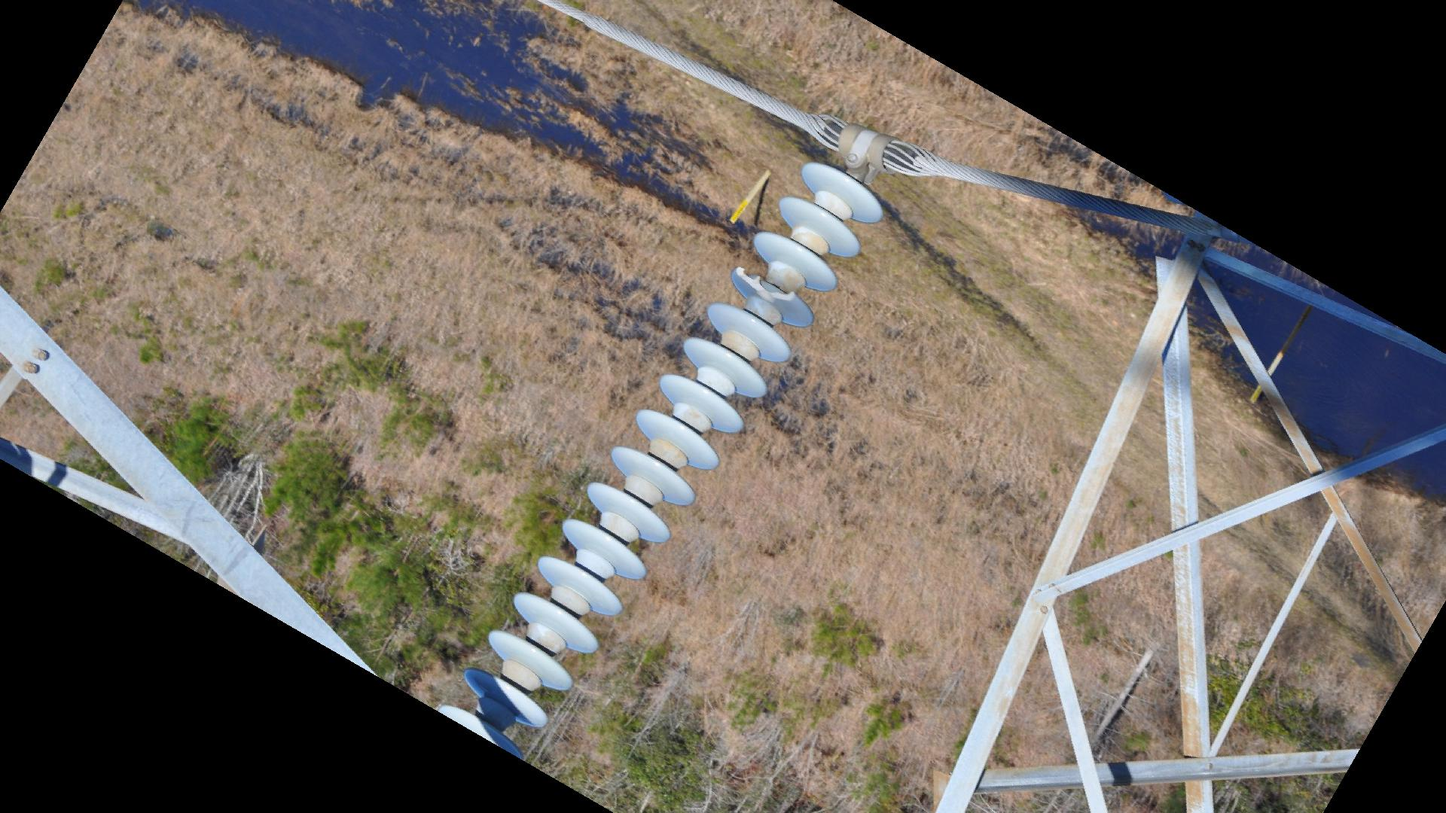insulator: (430, 154, 892, 758)
insulator_breakage: (733, 262, 798, 306)
